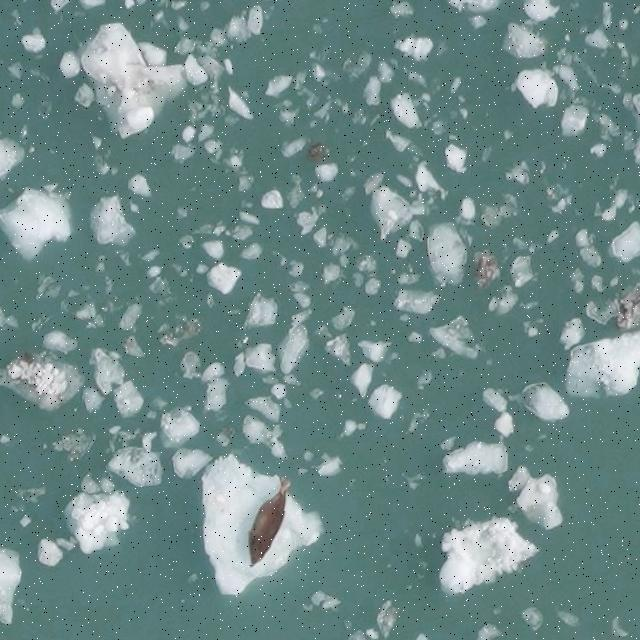seal: (245, 478, 291, 566)
